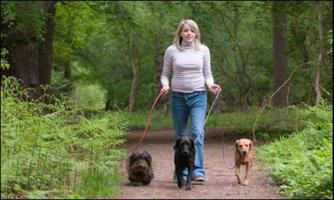person: (161, 20, 221, 185)
